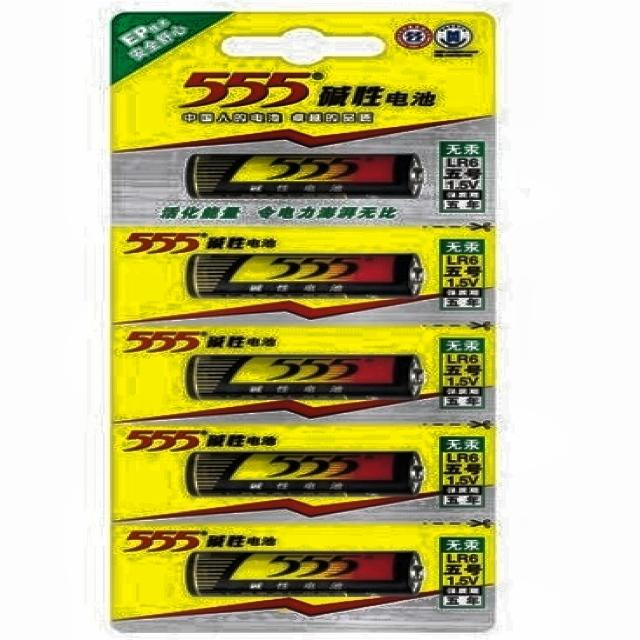Non-Valuable Waste - Batteries: (187, 254, 424, 298), (187, 355, 424, 399), (187, 154, 422, 198), (187, 551, 422, 595), (187, 452, 422, 495)
